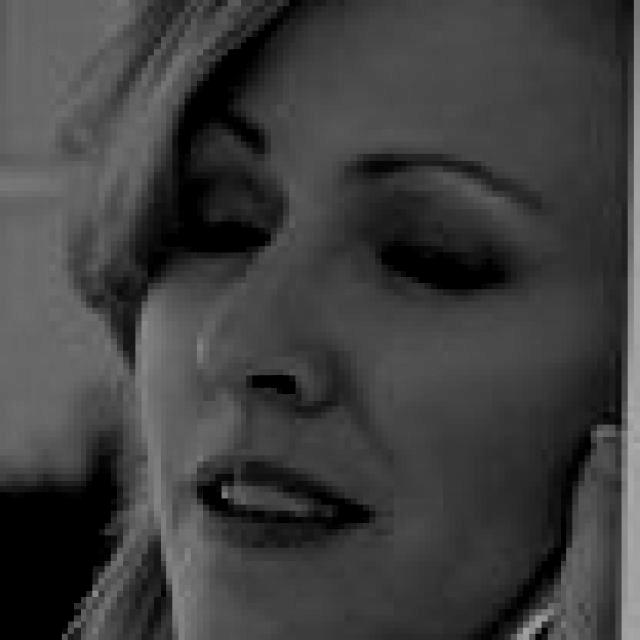real: (136, 8, 575, 600), (144, 162, 532, 308)
